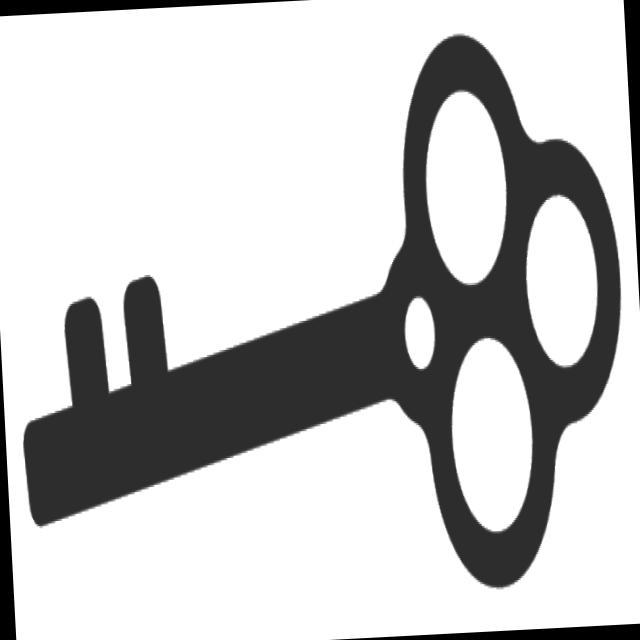key: (1, 18, 640, 626)
